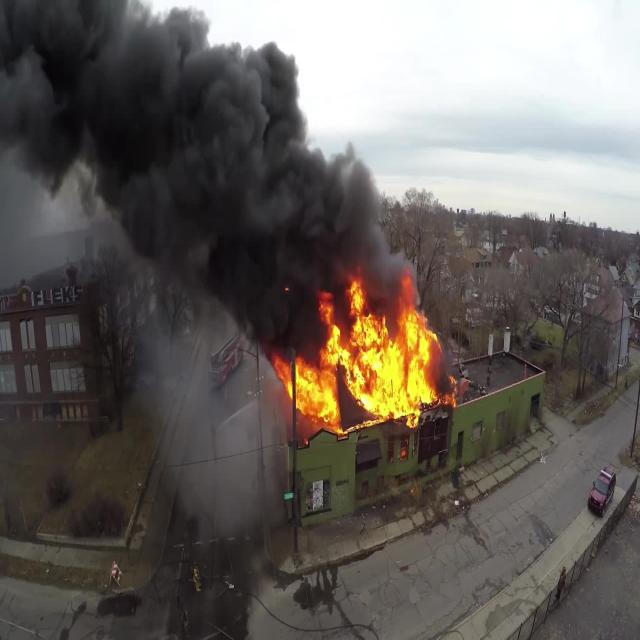Fire: (271, 286, 456, 426)
Smoke: (0, 0, 438, 363)
